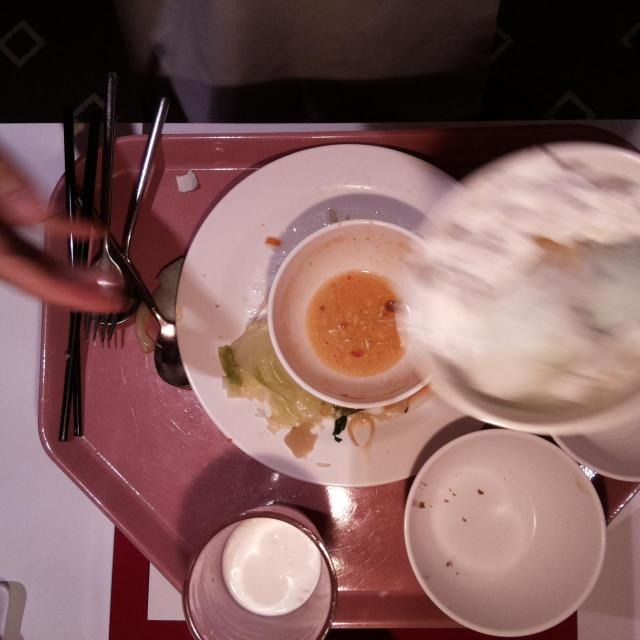Vegetable: (218, 319, 322, 429)
